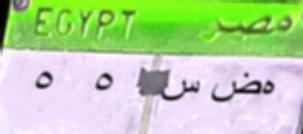5: (86, 67, 123, 102), (24, 67, 62, 95)
daad: (211, 72, 262, 108)
haa: (263, 76, 278, 98)
seen: (159, 72, 206, 104)
